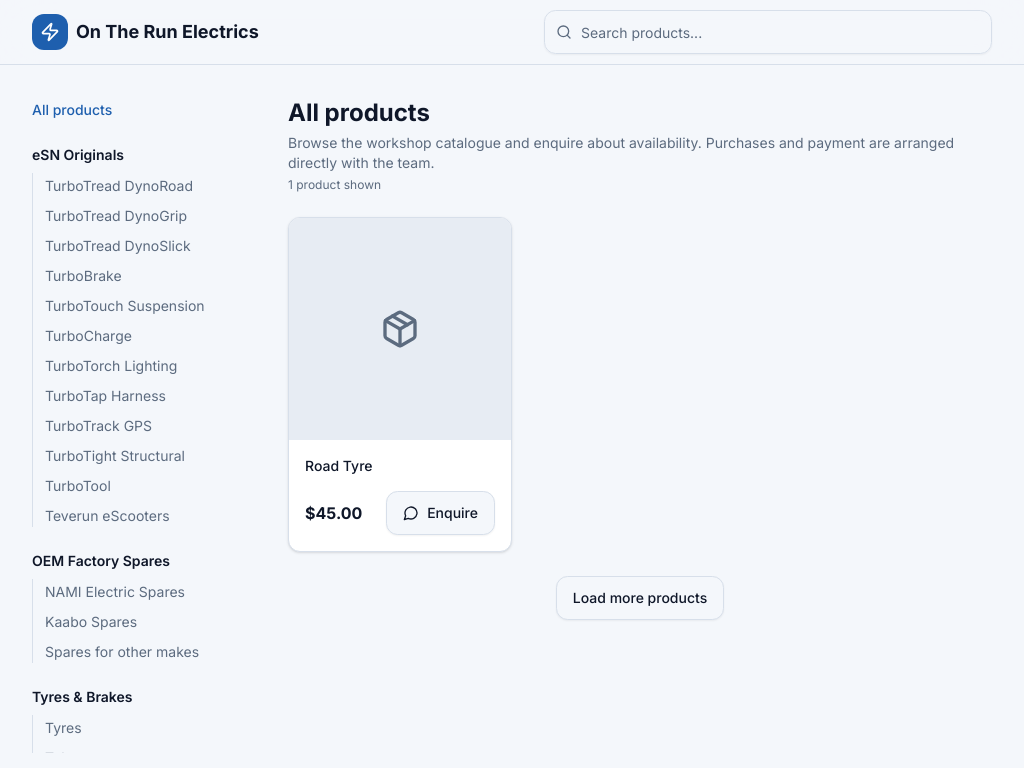
Test: Store browse-only catalogue › loads safe catalogue pages and sends product enquiries to Contact
This screenshot has width=1024, height=768.
Expected: the heading "Road Tyre" is shown, [305, 456, 372, 475]
Click the button "Load more products".
click(640, 598)  # box [556, 576, 724, 620]
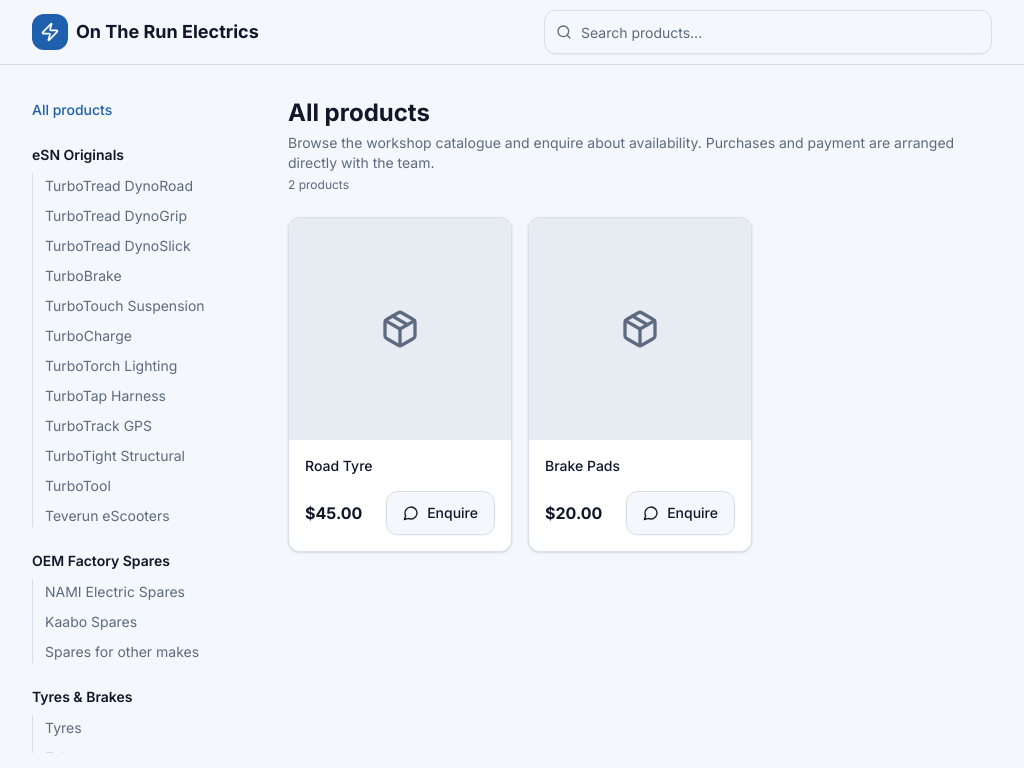
Expected: the heading "Brake Pads" is shown, [545, 456, 620, 475]
